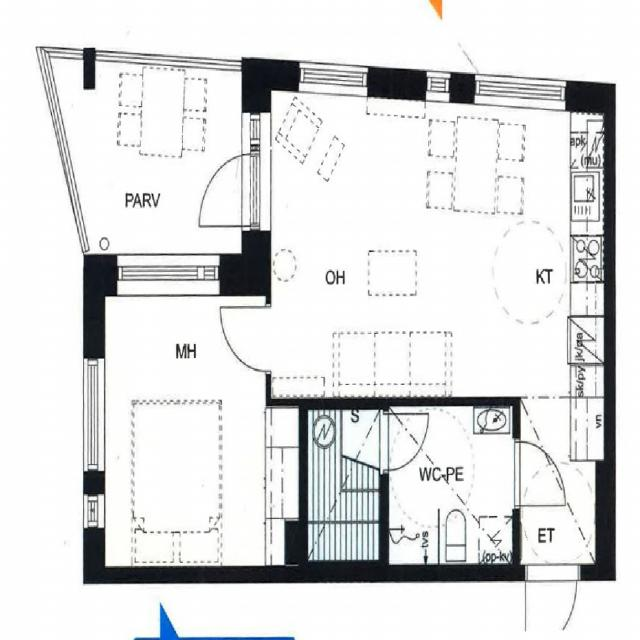door: (192, 156, 271, 226), (512, 441, 566, 506), (220, 306, 270, 371), (380, 414, 429, 469)
